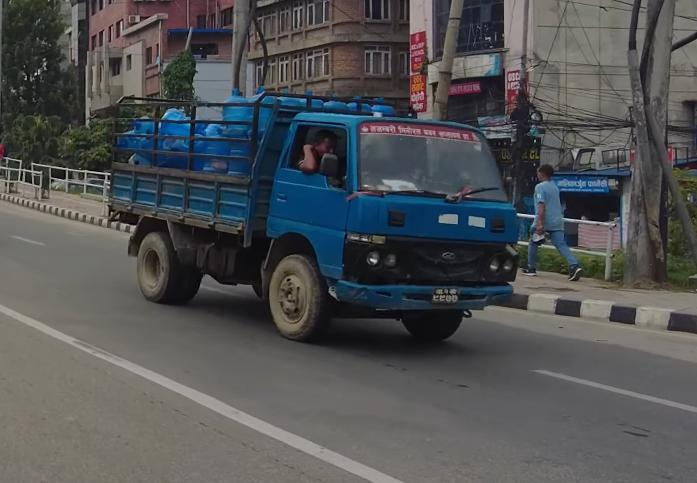mini_truck: (101, 73, 521, 343)
